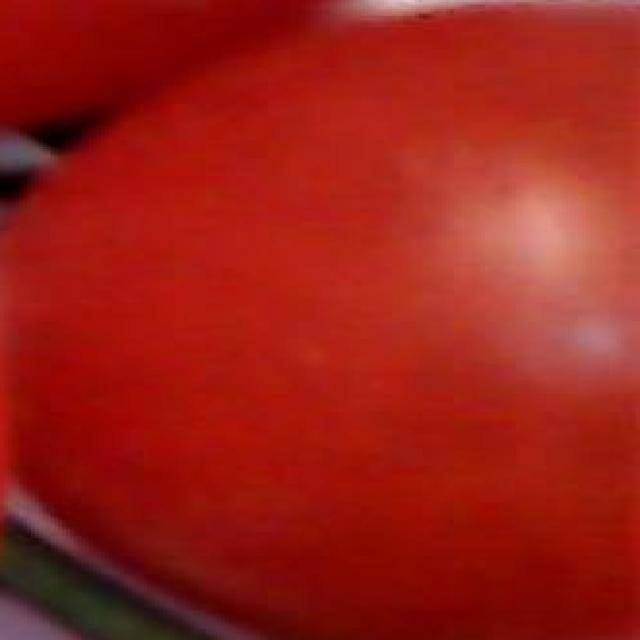Healthy Fruit: (6, 19, 427, 427)
